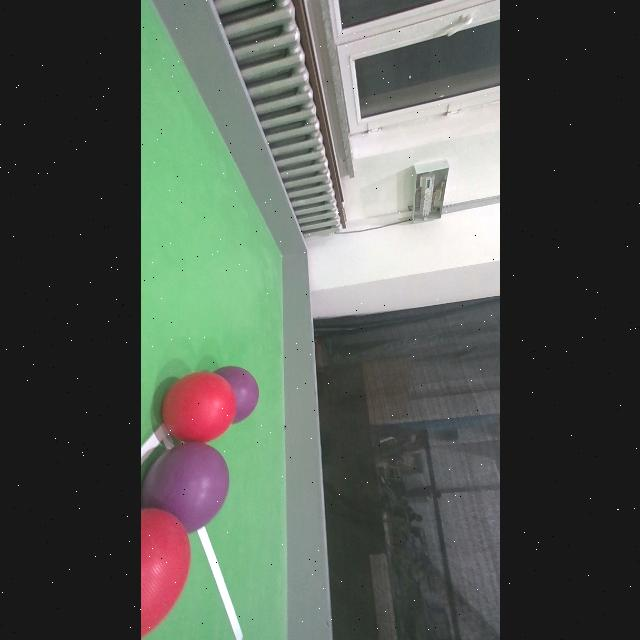P: (141, 441, 229, 533), (236, 364, 258, 420)
R: (141, 508, 195, 640), (162, 372, 236, 442)
